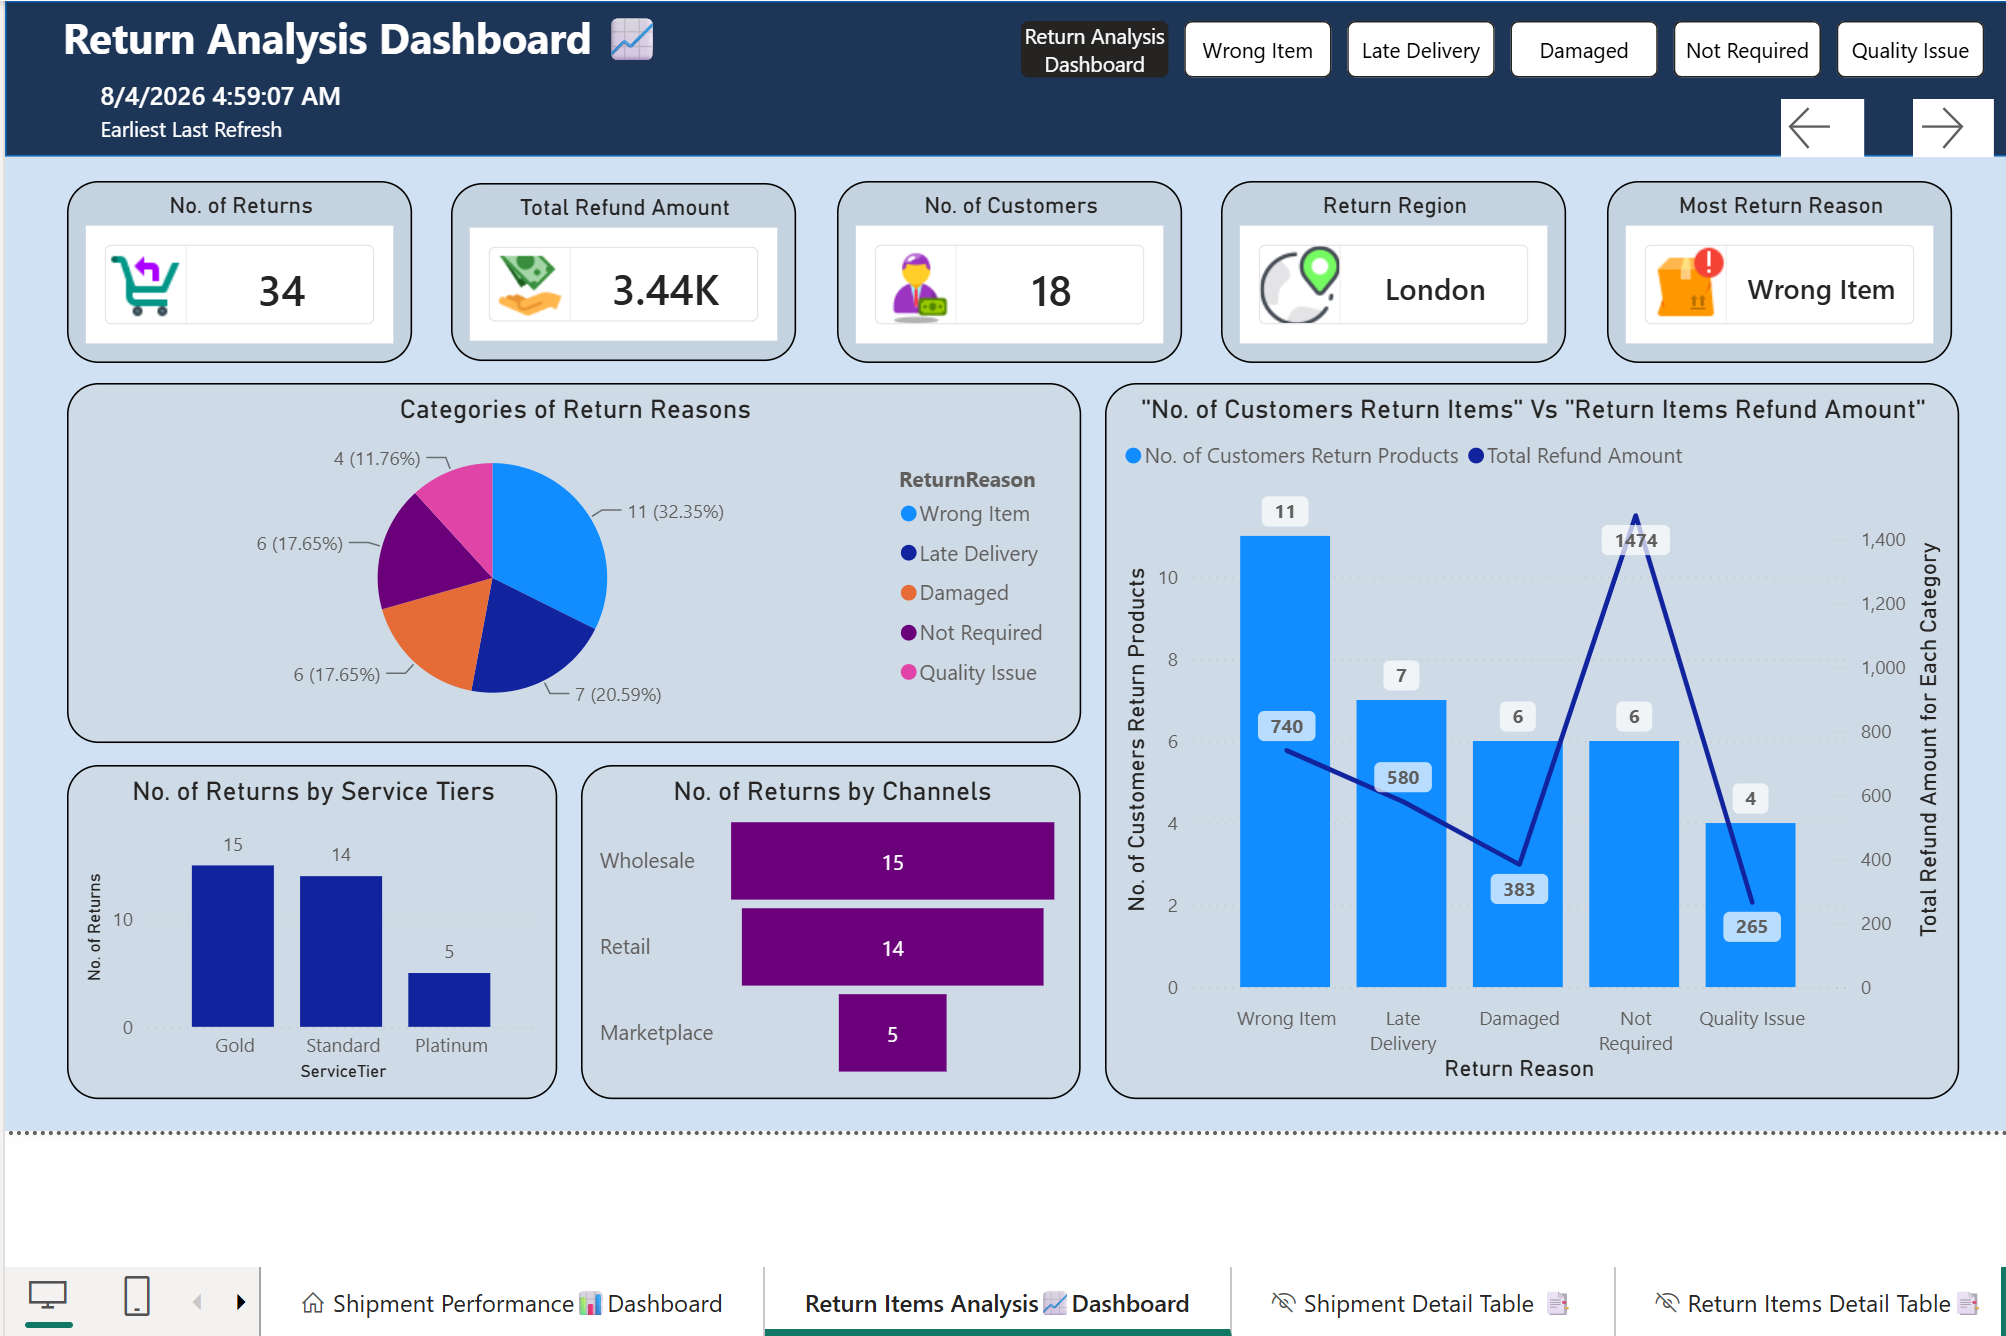

This screenshot's page, from the dashboard's own definition file:
{"tool":"powerbi","page":{"name":"Return Items Analysis📈Dashboard","canvas":[1280,720],"ordinal":1},"visuals":[{"type":"shape","box":[0,0,1280,99.1],"z":0},{"type":"cardVisual","title":"No. of Returns","fields":{"Data":["Count(Fact_Return.ReturnID)"]},"box":[39.5,114.7,220,116],"z":0,"group":"g2"},{"type":"textbox","box":[31.9,0,409.2,49.7],"z":1000},{"type":"actionButton","box":[1215.6,62.5,51.6,37],"z":1000,"group":"g1"},{"type":"cardVisual","title":"Total Refund Amount","fields":{"Data":["Sum(Fact_Return.RefundAmount)"]},"box":[284.9,116.1,220,113.3],"z":1000,"group":"g2"},{"type":"actionButton","box":[1132.1,62.5,53.1,37],"z":1500,"group":"g1"},{"type":"cardVisual","fields":{"Data":["Min(Toronto Auto Time Refershers.Last Refresh)"]},"box":[31.9,24.8,290.3,90.3],"z":2000},{"type":"cardVisual","title":"Most Return Reason","fields":{"Data":["Min(Fact_Return.ReturnReason)"]},"box":[1021.2,114.7,220,116],"z":2000,"group":"g2"},{"type":"cardVisual","title":"No. of Customers","fields":{"Data":["CountNonNull(Dim_Customer.ServiceTier)"]},"box":[530.3,114.7,220,116],"z":3000,"group":"g2"},{"type":"pieChart","title":"Categories of Return Reasons","fields":{"Category":["Fact_Return.ReturnReason"],"Y":["CountNonNull(Fact_Return.ReturnID)"]},"box":[39.5,243.5,646.4,229.5],"z":3000},{"type":"lineStackedColumnComboChart","title":"\"No. of Customers Return Items\" Vs \"Return Items Refund Amount\"","fields":{"Category":["Fact_Return.ReturnReason"],"Y":["CountNonNull(Fact_Return.ReturnQuantity)"],"Y2":["Sum(Fact_Return.RefundAmount)"]},"box":[701.2,243.5,544.4,456.4],"z":4000},{"type":"columnChart","title":"No. of Returns by Service Tiers","fields":{"Category":["Dim_Customer.ServiceTier"],"Y":["CountNonNull(Fact_Return.ReturnID)"]},"box":[39.5,487,312.4,212.9],"z":5000},{"type":"bookmarkNavigator","title":"Return Analysis Dashboard","box":[647.6,12.7,619.6,37],"z":6000},{"type":"funnel","title":"No. of Returns by Channels","fields":{"Category":["Dim_Customer.Channel"],"Y":["CountNonNull(Fact_Return.ReturnID)"]},"box":[367.2,487,318.7,212.9],"z":7000},{"type":"group","id":"g1","title":"Group 2","box":[1132.1,62.5,135.1,37],"z":8000},{"type":"cardVisual","title":"Return Region","fields":{"Data":["Min(Dim_Customer.Region)"]},"box":[775.8,114.7,220,116],"z":8001,"group":"g2"},{"type":"group","id":"g2","title":"Group 1","box":[39.5,114.7,1202.2,117.3],"z":9000}]}

Visuals, with their boxes on the page's 1280x720 design canvas (x1, y1, x2, y2). These are canvas units, not pixel positions in the 2006x1336 screenshot, which may show the page scaled, cropped or inside an application window:
shape: 0 0 1280 99
"No. of Returns" cardVisual: 40 115 260 231
textbox: 32 0 441 50
actionButton: 1216 62 1267 100
"Total Refund Amount" cardVisual: 285 116 505 229
actionButton: 1132 62 1185 100
cardVisual - Min(Toronto Auto Time Refershers.Last Refresh): 32 25 322 115
"Most Return Reason" cardVisual: 1021 115 1241 231
"No. of Customers" cardVisual: 530 115 750 231
"Categories of Return Reasons" pieChart: 40 244 686 473
""No. of Customers Return Items" Vs "Return Items Refund Amount"" lineStackedColumnComboChart: 701 244 1246 700
"No. of Returns by Service Tiers" columnChart: 40 487 352 700
"Return Analysis Dashboard" bookmarkNavigator: 648 13 1267 50
"No. of Returns by Channels" funnel: 367 487 686 700
"Group 2" group: 1132 62 1267 100
"Return Region" cardVisual: 776 115 996 231
"Group 1" group: 40 115 1242 232
